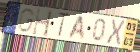0: (91, 18, 108, 43)
A: (67, 15, 85, 41)
G: (17, 8, 36, 34)
H: (31, 7, 54, 39)
T: (56, 12, 71, 39)
X: (105, 18, 127, 47)
